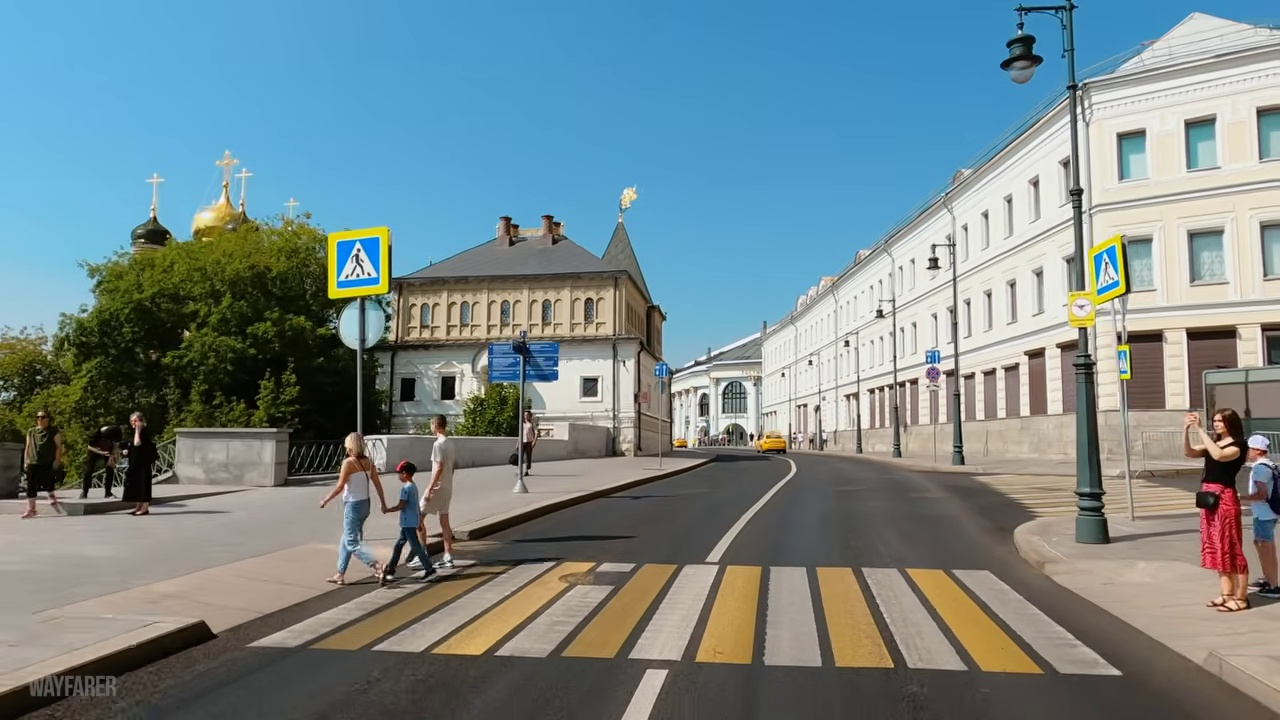apagada: (995, 37, 1040, 85), (919, 258, 948, 280)
